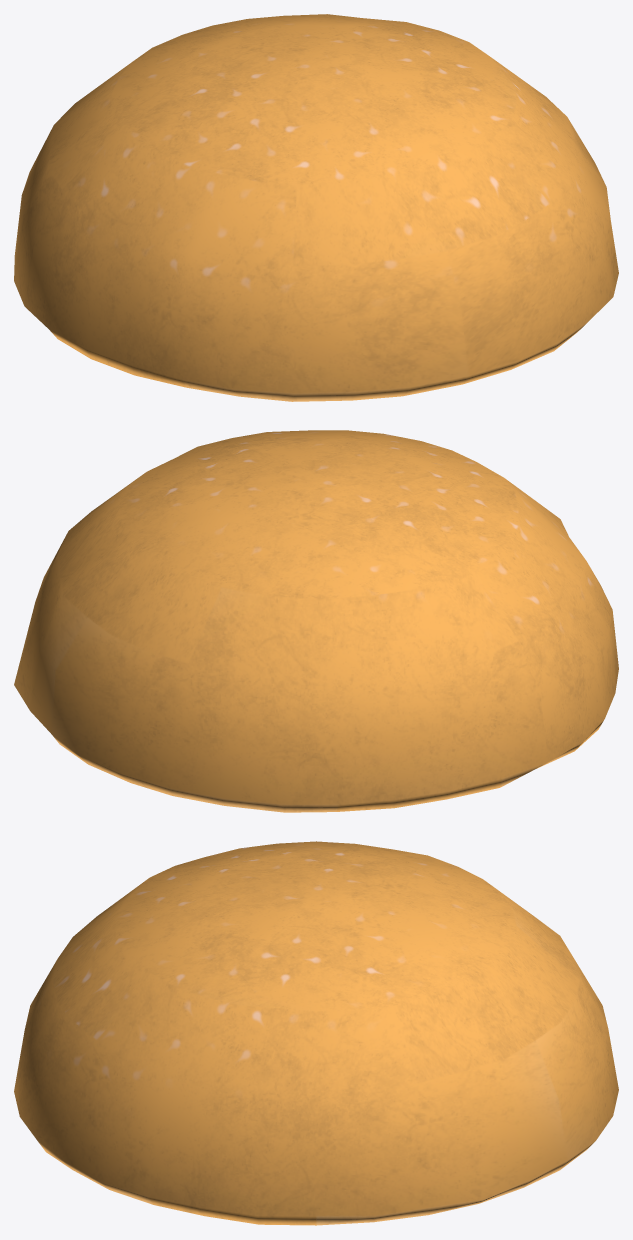
File: BreadTop.fbx
3 views of the same model, one above another, from view 1: azimuth 30°, elevation 25°; view 2: azimuth 150°, elevation 25°; view 3: azimuth 270°, elevation 25° (orthographic).
Visible parts, largest first — view 1: bread for burger top; view 2: bread for burger top; view 3: bread for burger top.
Part boxes in pixels (left/top/right/bottom): bread for burger top: left=14, top=14, right=618, bottom=401; bread for burger top: left=14, top=430, right=618, bottom=812; bread for burger top: left=14, top=841, right=618, bottom=1225.
Bounding box in the file's own units: 21.76 × 8.37 × 21.9.
